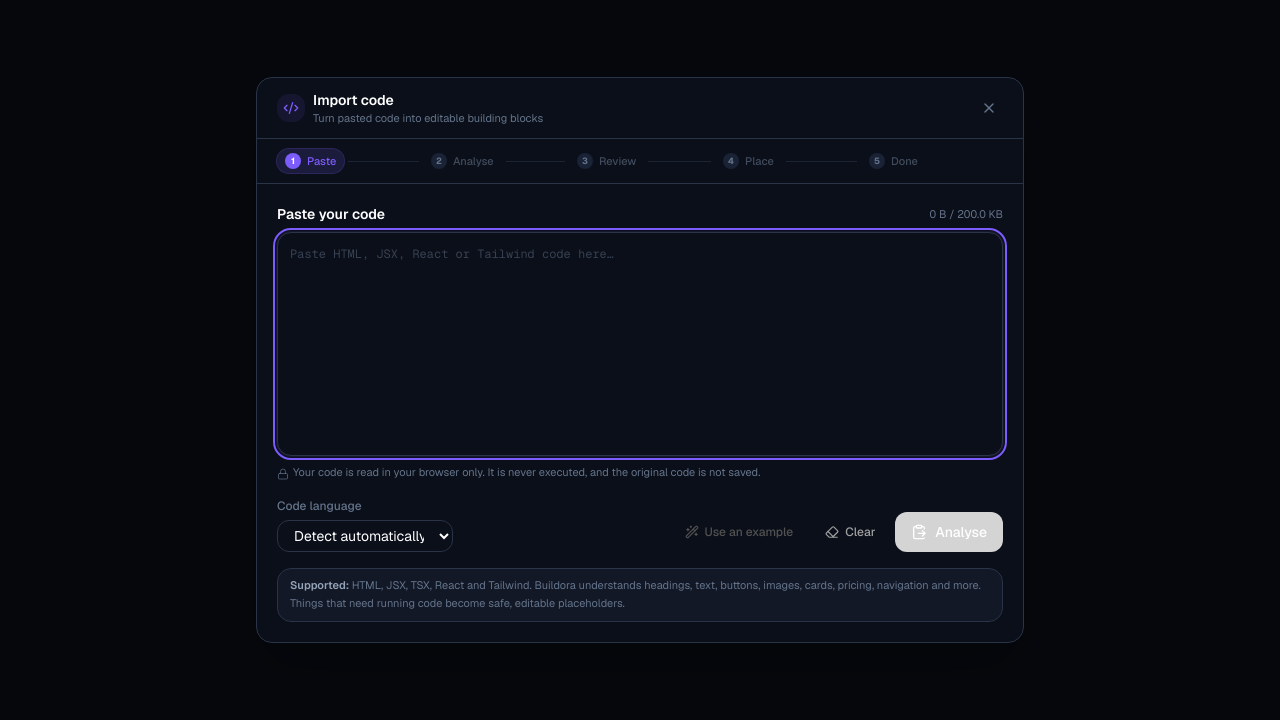
Test: CodeImportDialog — analysis failure › shows a friendly error and lets the user go back
The width and height of the screenshot is (1280, 720).
Type "(((" into the text box with test id "code-import-source" at [640, 344], box x1=277 y1=232 x2=1003 y2=456
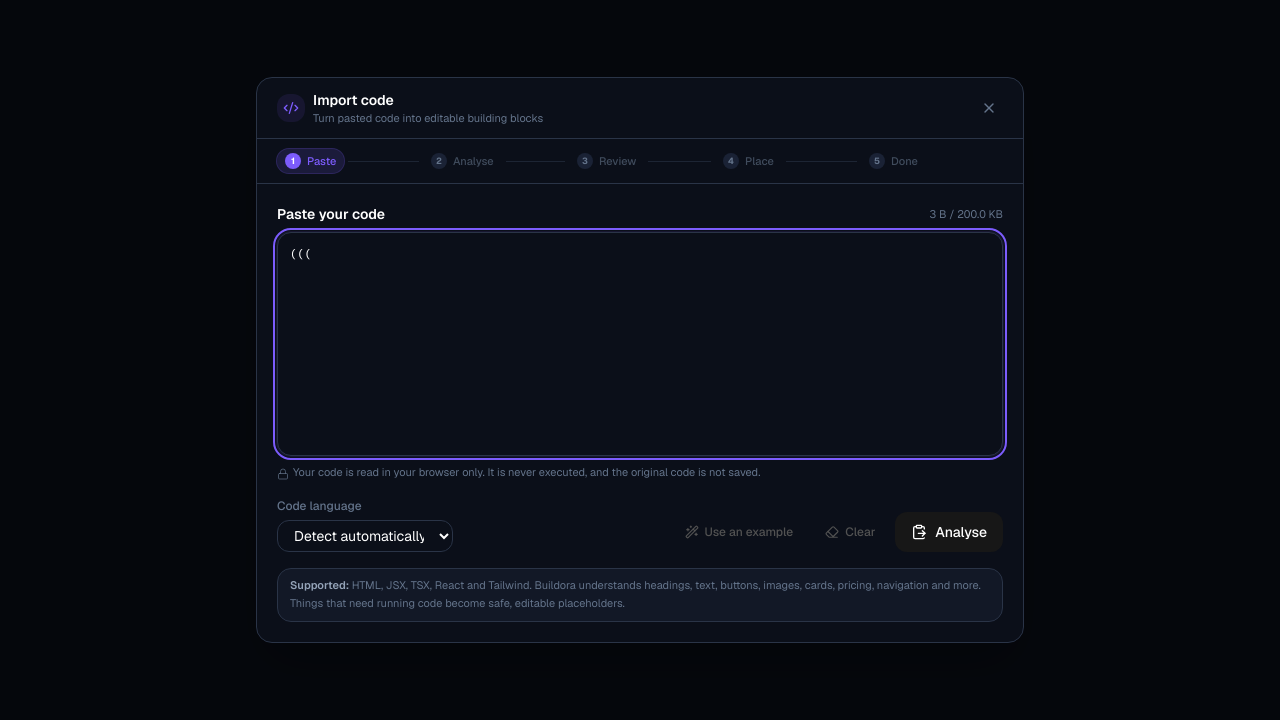
Click the button with test id "code-import-analyse" at [949, 532], box x1=895 y1=512 x2=1003 y2=552
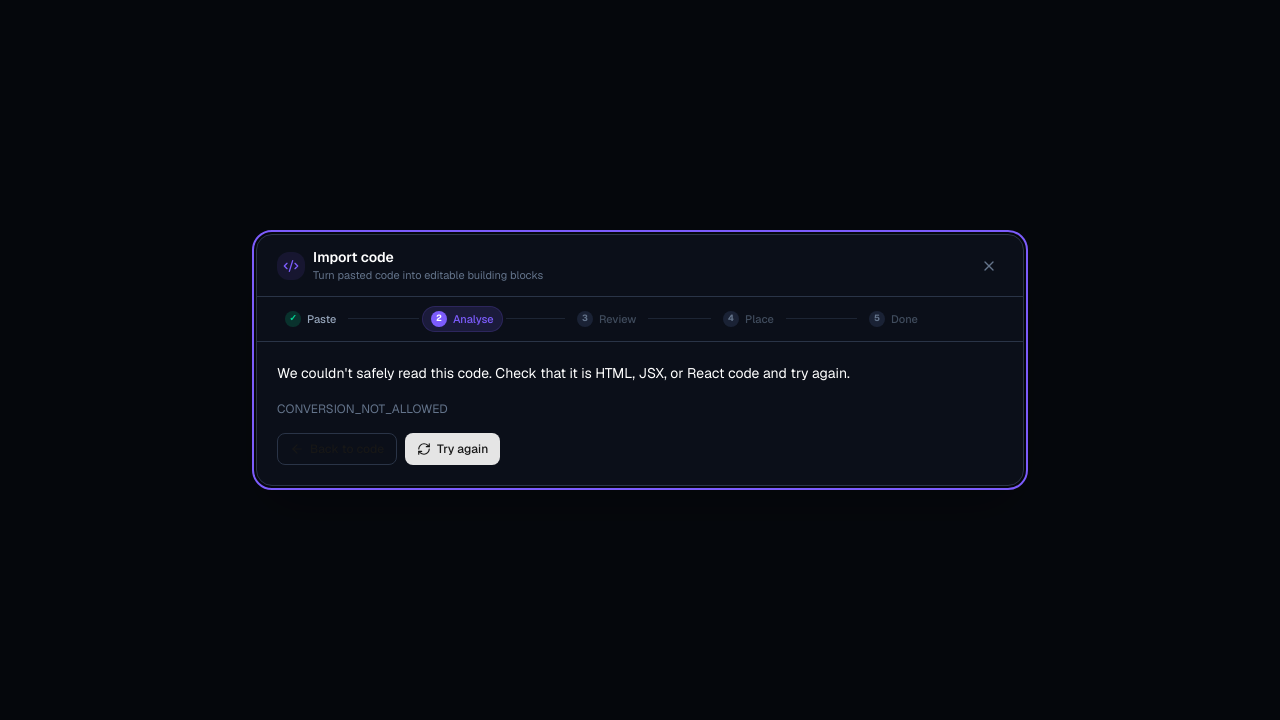
Check: the message with test id "analysis-failed" is shown, box x1=277 y1=364 x2=850 y2=465
